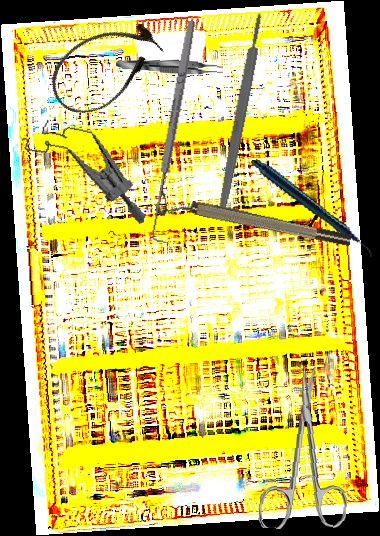Cannula: (37, 6, 173, 128)
Fixation Ring: (154, 187, 353, 258)
Handpiece: (250, 135, 373, 283)
Hook Surgical: (145, 19, 206, 244)
Iris Scissors: (257, 363, 357, 534)
Scalpel Handle: (216, 12, 267, 210)
Speculum: (9, 113, 162, 226)
Tissue Forceps: (115, 56, 224, 77)
